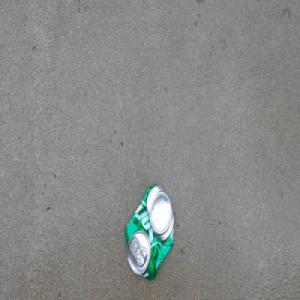SodaCan: (124, 182, 175, 282)
